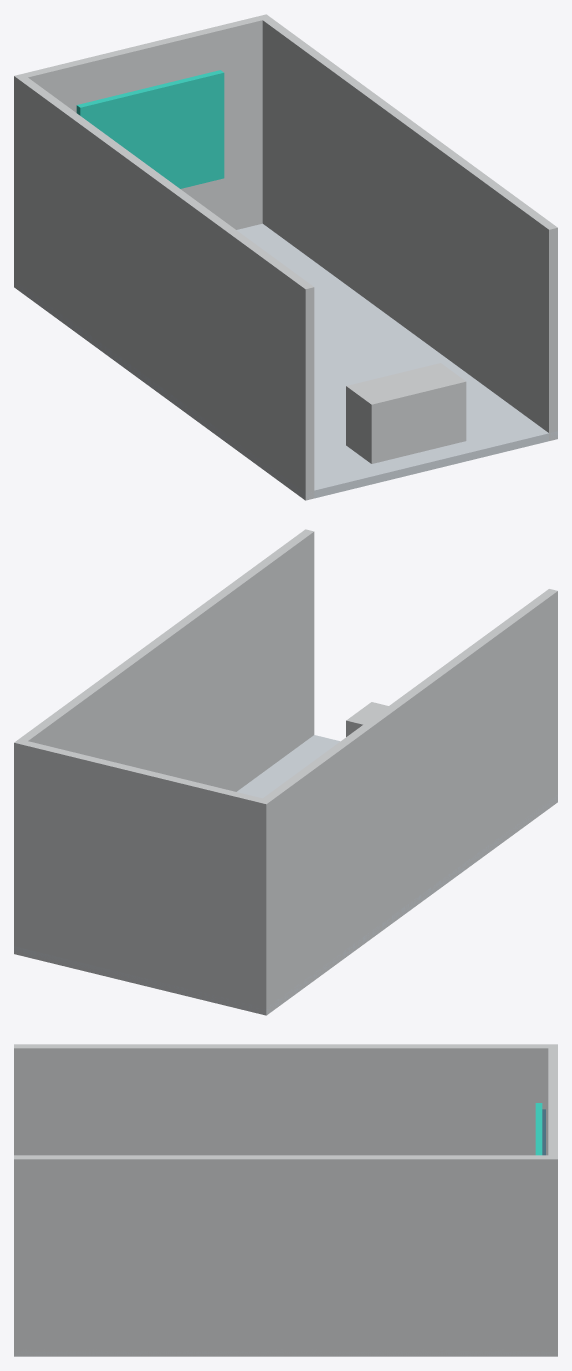
The picture shows the model from 3 angles, top to bottom: view 1: azimuth 30°, elevation 25°; view 2: azimuth 150°, elevation 25°; view 3: azimuth 270°, elevation 25°; orthographic projection. The views are drawn at different scales.
Parts seen in each view (by area): view 1: Exhibition Booth Concept; view 2: Exhibition Booth Concept; view 3: Exhibition Booth Concept.
Part boxes in pixels (x1=…): Exhibition Booth Concept: x1=14, y1=14, x2=557, y2=500; Exhibition Booth Concept: x1=14, y1=529, x2=557, y2=1015; Exhibition Booth Concept: x1=14, y1=1044, x2=557, y2=1356.
Size of the model in its own units: 4 by 3.2 by 8.
